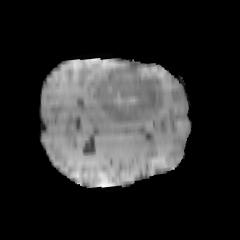glioma: (92, 65, 165, 124)
